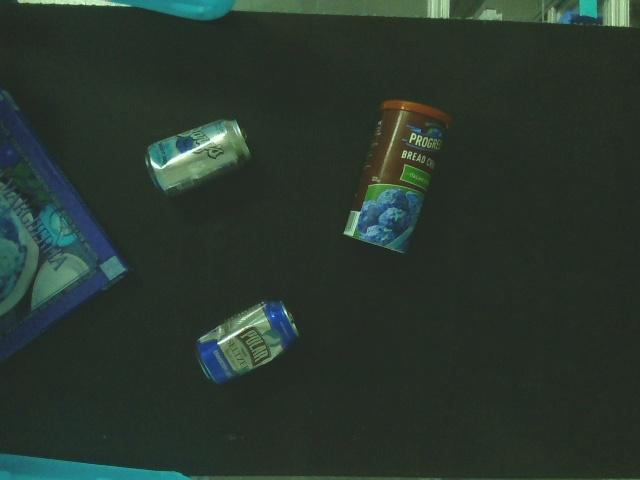cardboard: (0, 79, 130, 382), (340, 96, 449, 262)
metal: (192, 291, 302, 389), (143, 116, 251, 196)
